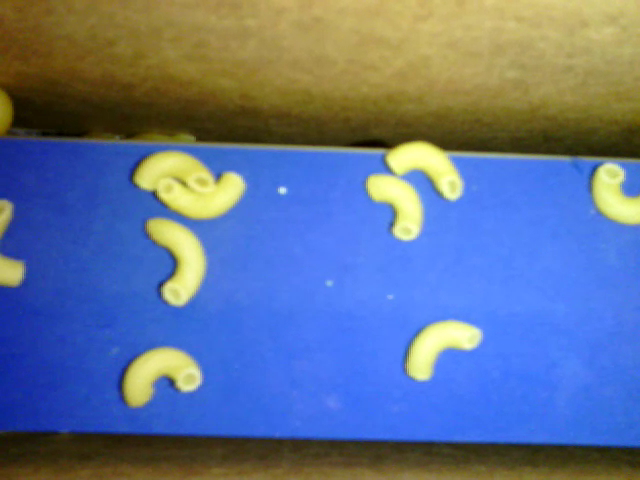elbow: (145, 216, 208, 307), (122, 344, 203, 411), (404, 316, 484, 383), (384, 139, 464, 204), (155, 171, 248, 219), (128, 151, 215, 197), (367, 173, 424, 242), (591, 162, 639, 227), (2, 199, 28, 290)
